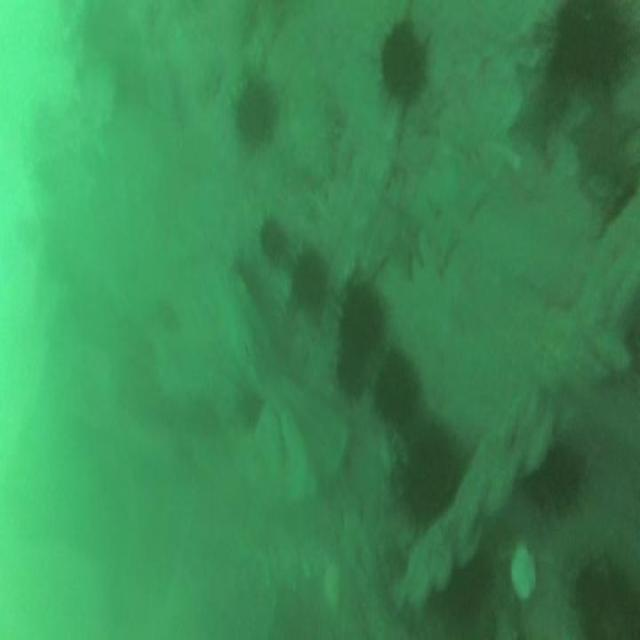echinus: (555, 3, 630, 90), (407, 426, 459, 524), (580, 570, 640, 640), (529, 448, 588, 514), (383, 22, 426, 95), (376, 352, 420, 422), (341, 282, 383, 350), (236, 82, 274, 147), (291, 255, 326, 308), (338, 348, 364, 397), (260, 222, 284, 262)
starfish: (428, 160, 490, 267), (390, 210, 422, 274)
